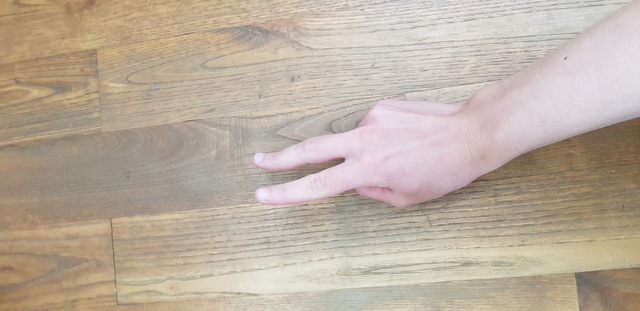Scissors: (244, 90, 515, 234)
